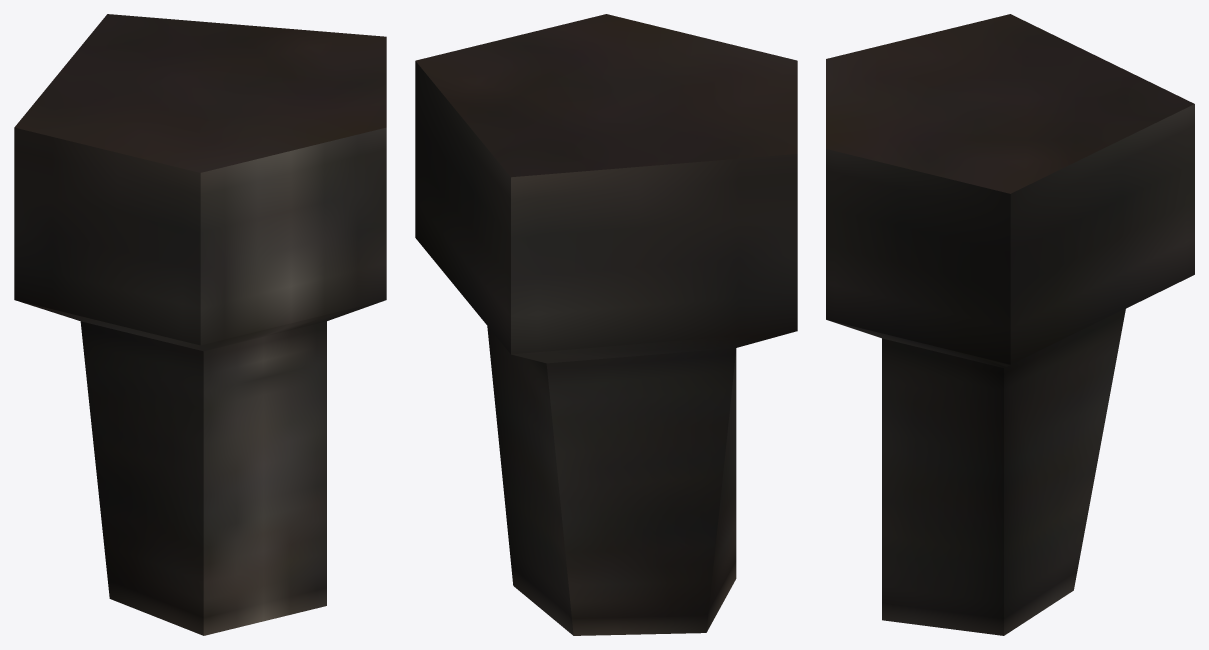
Rendered from SM_EN_2005_guandao03.FBX.
3 renders of one model, left to right at view 1: azimuth 30°, elevation 25°; view 2: azimuth 150°, elevation 25°; view 3: azimuth 270°, elevation 25°, orthographic. The views are drawn at different scales.
Visible parts, largest first — view 1: SM_EN_2005_guandao03; view 2: SM_EN_2005_guandao03; view 3: SM_EN_2005_guandao03.
Boxes of the visible parts, bbox=[...] form: SM_EN_2005_guandao03: bbox=[14, 14, 386, 635]; SM_EN_2005_guandao03: bbox=[415, 14, 797, 635]; SM_EN_2005_guandao03: bbox=[826, 14, 1194, 635].
Bounding box in the file's own units: 8 × 10.08 × 6.93.
